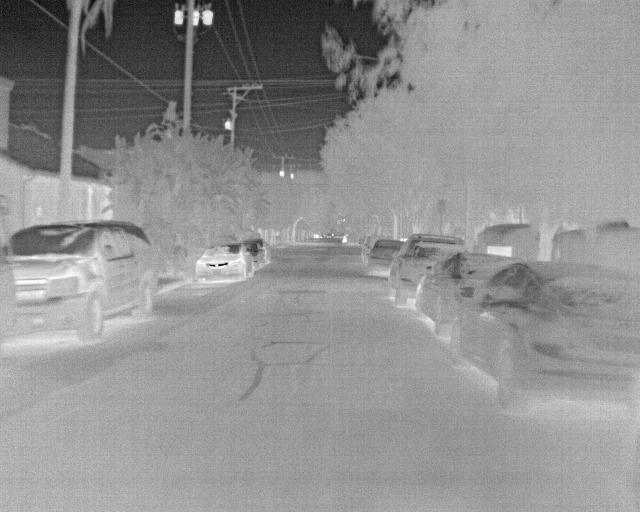car: (448, 261, 639, 411), (0, 221, 159, 339), (414, 253, 512, 340), (382, 233, 469, 305), (193, 246, 252, 288), (366, 236, 412, 278), (245, 239, 274, 268)
